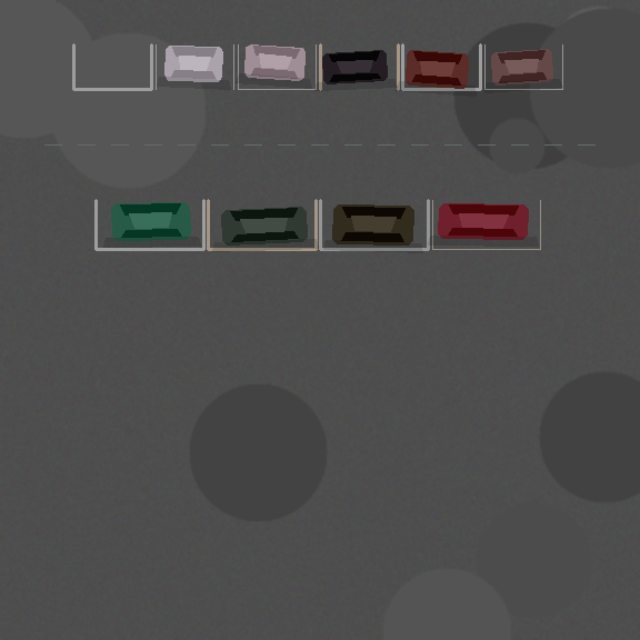space-empty: (73, 44, 151, 89)
space-occupied: (208, 200, 316, 249), (320, 200, 428, 249), (432, 200, 540, 249), (96, 200, 203, 249), (238, 44, 316, 89), (320, 44, 398, 89), (402, 44, 480, 89), (484, 44, 562, 89), (156, 44, 233, 89)
